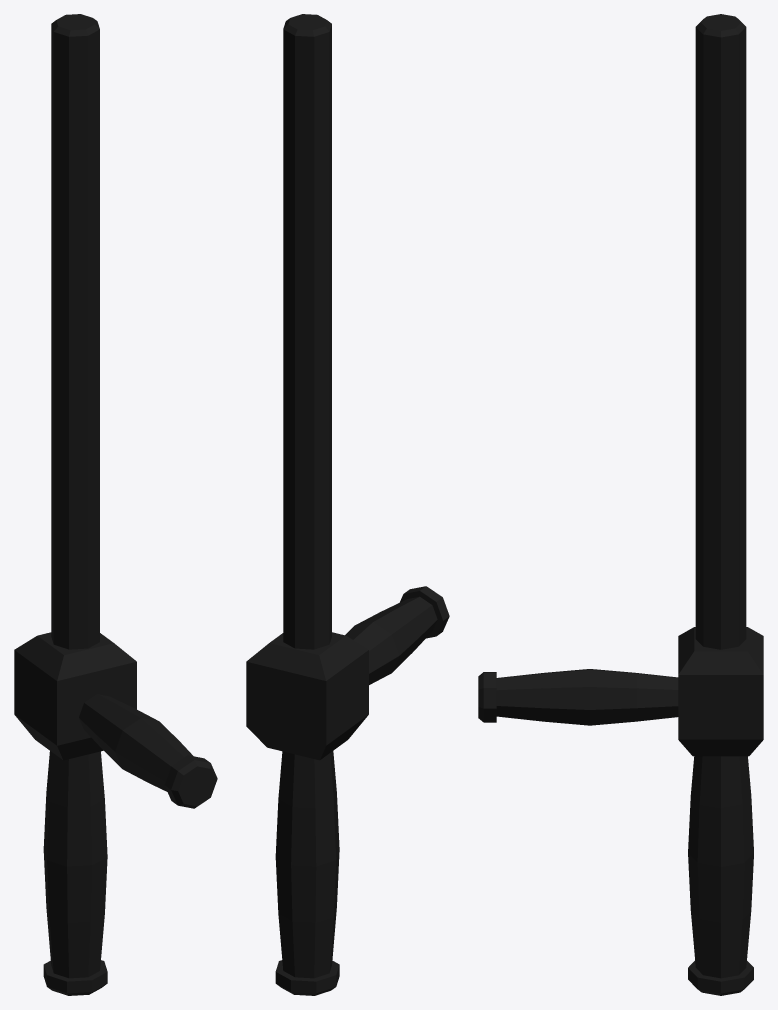
File: Baton.glb
3 views of the same model, side by side, from view 1: azimuth 30°, elevation 25°; view 2: azimuth 150°, elevation 25°; view 3: azimuth 270°, elevation 25° (orthographic).
Visible parts, largest first — view 1: Baton; view 2: Baton; view 3: Baton.
Boxes of the visible parts, x1,y1,x2,y2 form: Baton: (14,14,217,995); Baton: (246,14,449,995); Baton: (478,14,763,995).
Bounding box in the file's own units: 0.0522 × 0.6003 × 0.1615.
Materials: 1 (1 with a texture image).
